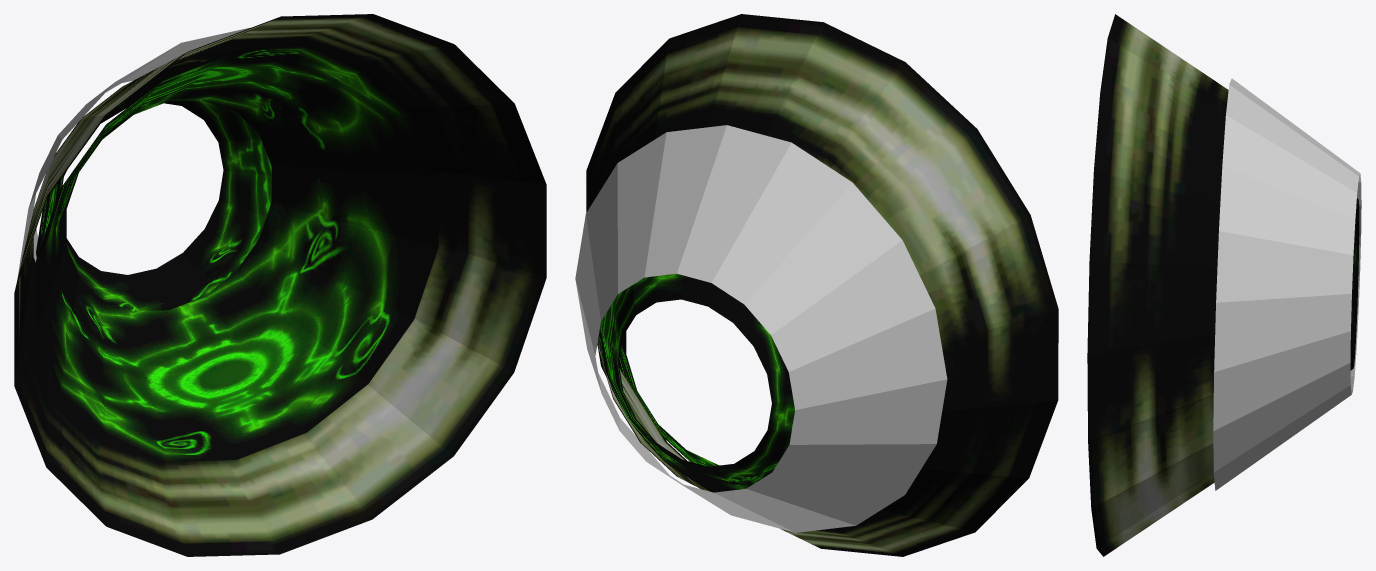
File: tx_xuemai_ziran_fire.obj
The picture shows the model from 3 angles, left to right: view 1: azimuth 30°, elevation 25°; view 2: azimuth 150°, elevation 25°; view 3: azimuth 270°, elevation 25°; orthographic projection. The views are drawn at different scales.
Visible parts, largest first — view 1: Cylinder02, Cylinder04, Cylinder03, Cylinder01; view 2: Cylinder02, Cylinder01, Cylinder03, Cylinder04; view 3: Cylinder02, Cylinder01, Cylinder03.
Part boxes in pixels (bbox=[...]): Cylinder02: bbox=[14, 14, 546, 556]; Cylinder04: bbox=[36, 46, 438, 462]; Cylinder03: bbox=[36, 61, 271, 311]; Cylinder01: bbox=[17, 27, 250, 279]; Cylinder02: bbox=[586, 14, 1058, 556]; Cylinder01: bbox=[575, 125, 947, 532]; Cylinder03: bbox=[597, 273, 794, 492]; Cylinder04: bbox=[618, 331, 719, 466]; Cylinder02: bbox=[1087, 14, 1228, 556]; Cylinder01: bbox=[1213, 78, 1361, 490]; Cylinder03: bbox=[1350, 198, 1359, 370].
Size of the model in its own units: 97.22 by 98.53 by 49.57.
